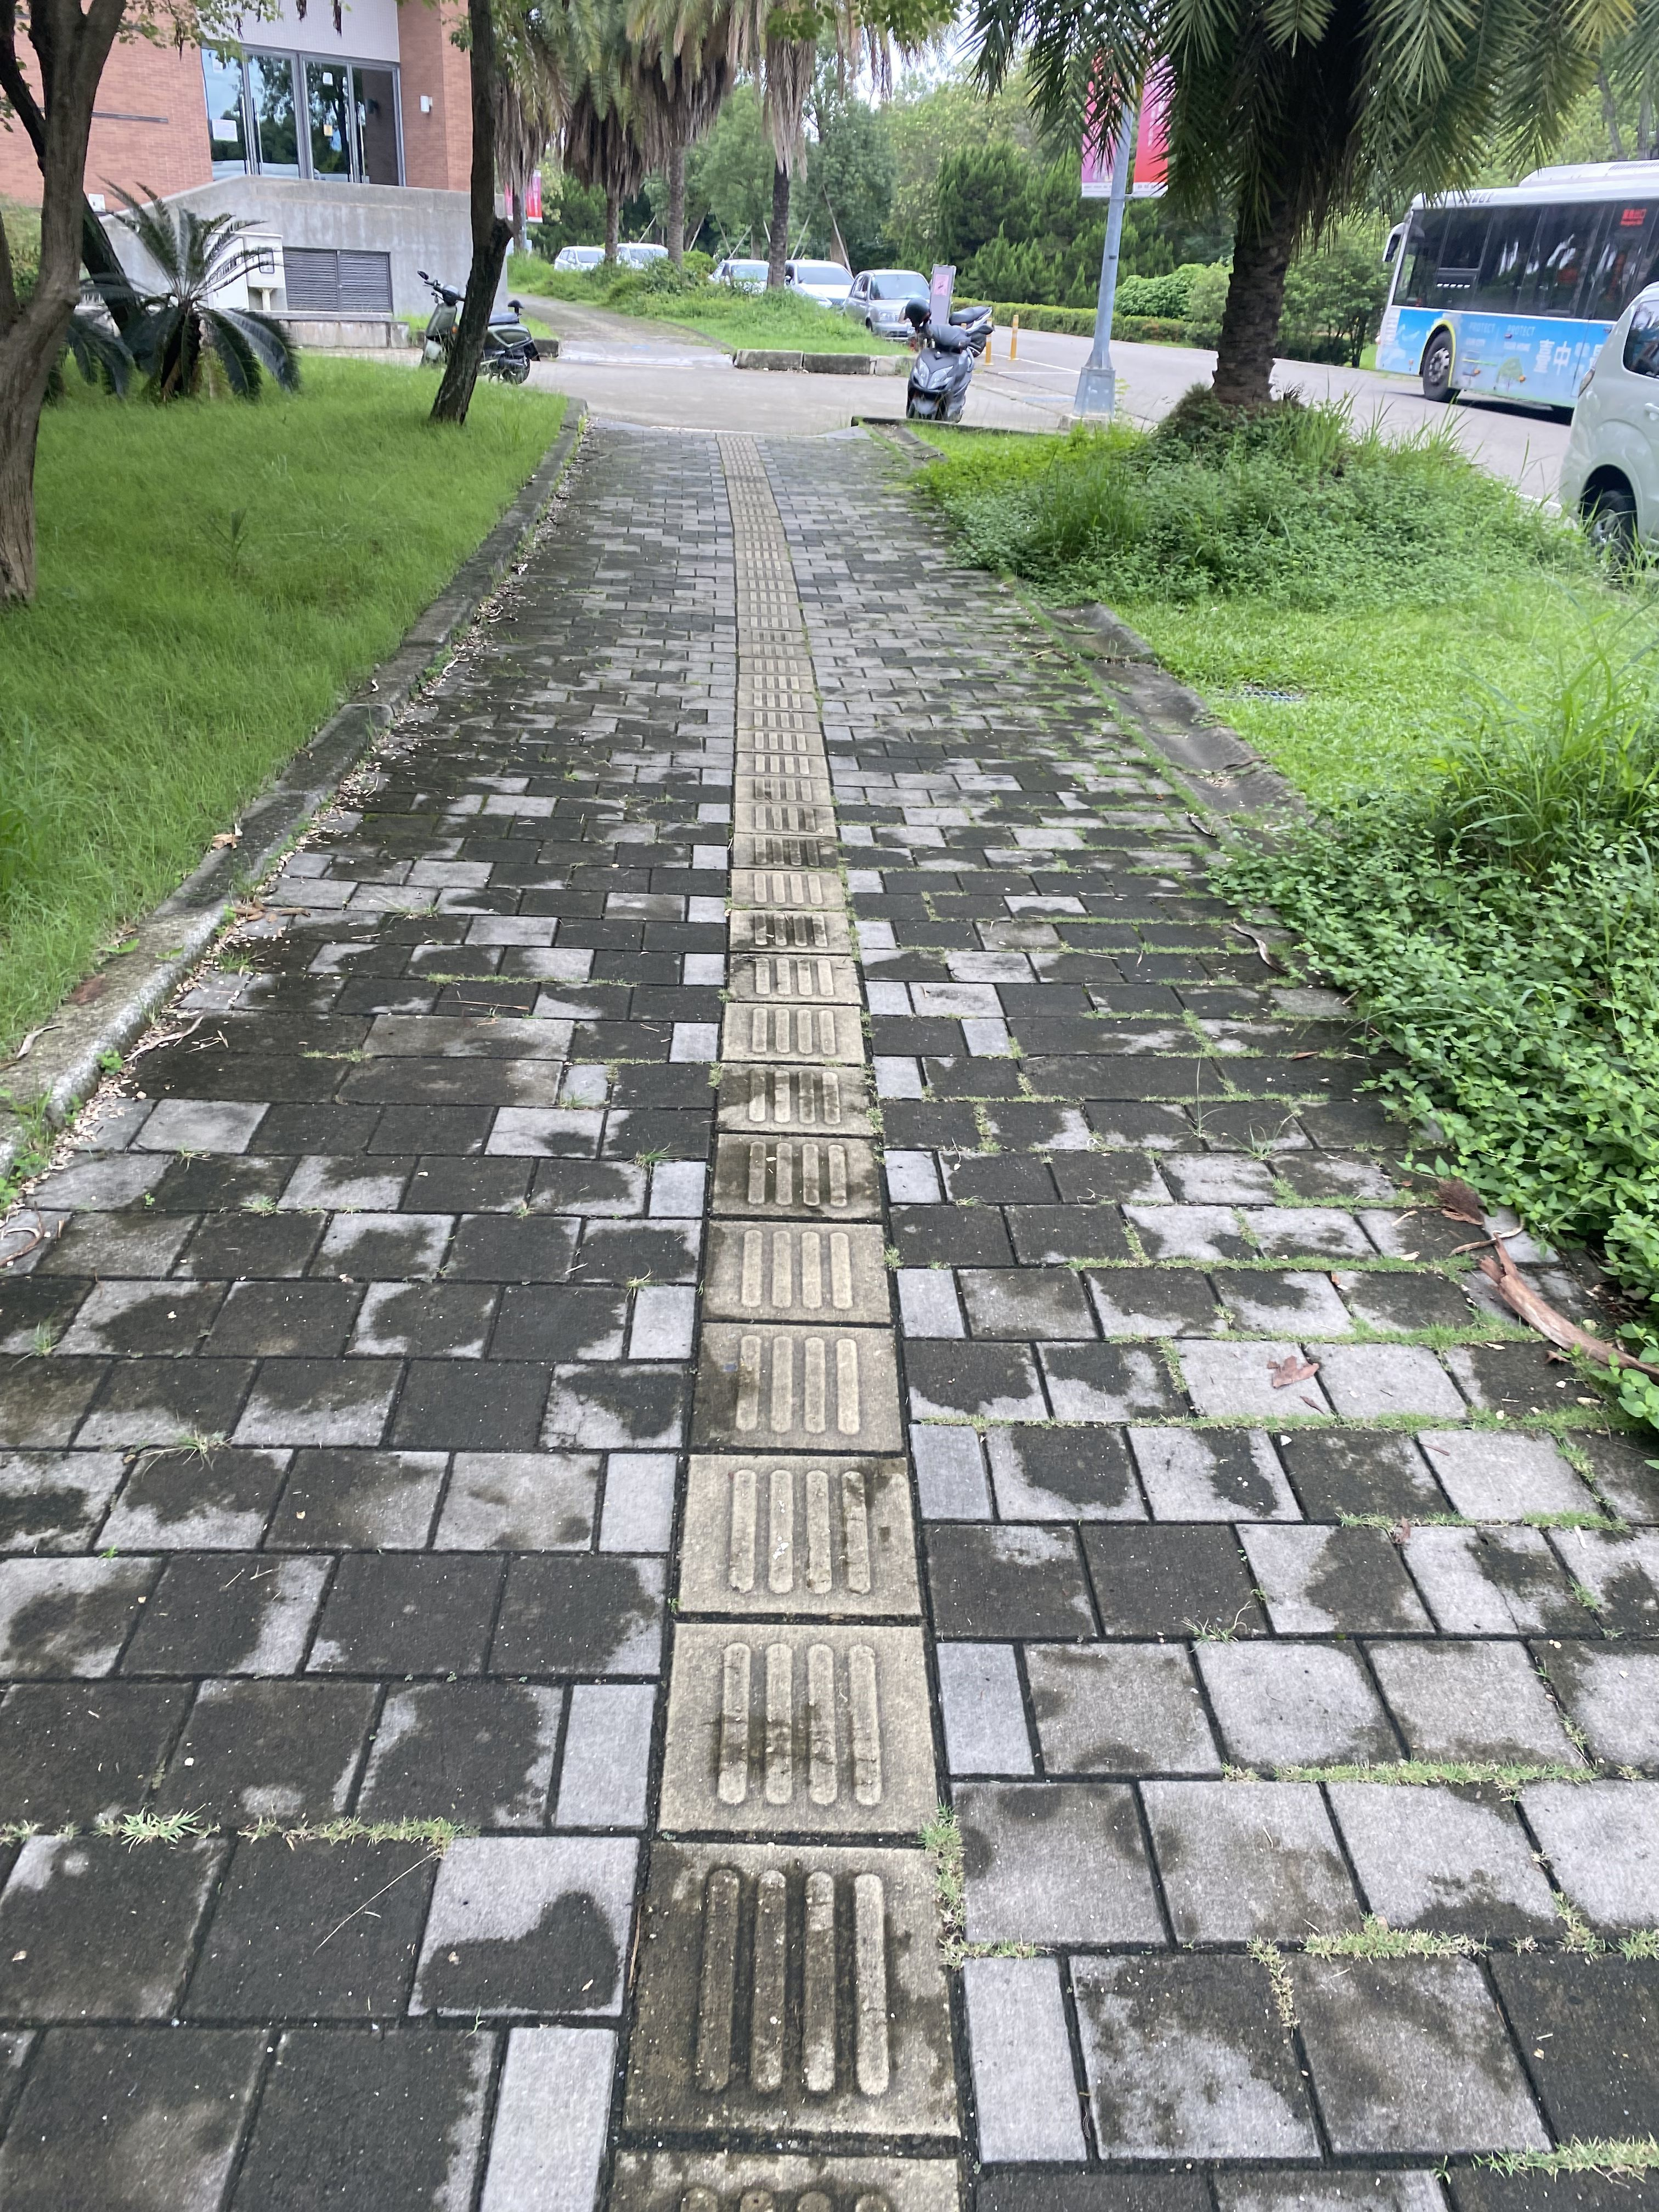sidewalk: (0, 430, 1654, 2212)
